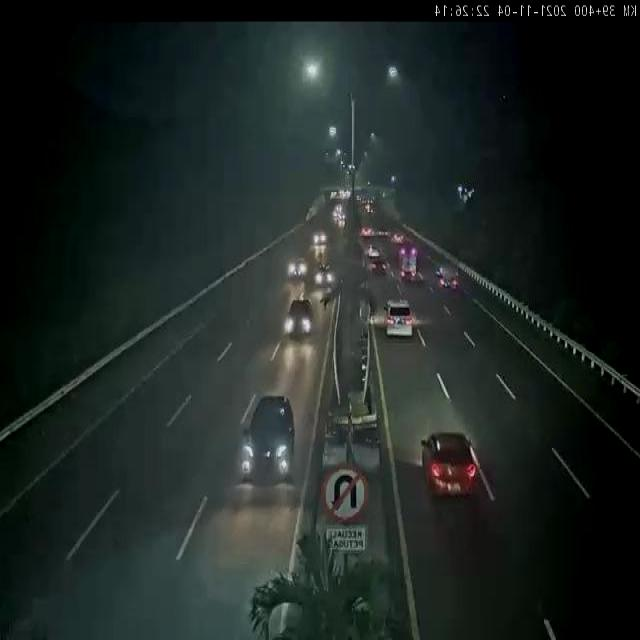Car: (235, 383, 307, 499), (420, 432, 479, 500), (284, 298, 314, 339), (385, 300, 414, 338), (436, 265, 459, 290), (370, 255, 391, 279), (314, 264, 334, 288), (313, 226, 332, 250), (288, 257, 307, 280), (367, 243, 384, 265)
Truck: (393, 240, 426, 288)
